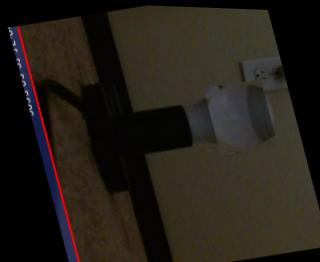Fan: (200, 72, 277, 153)
